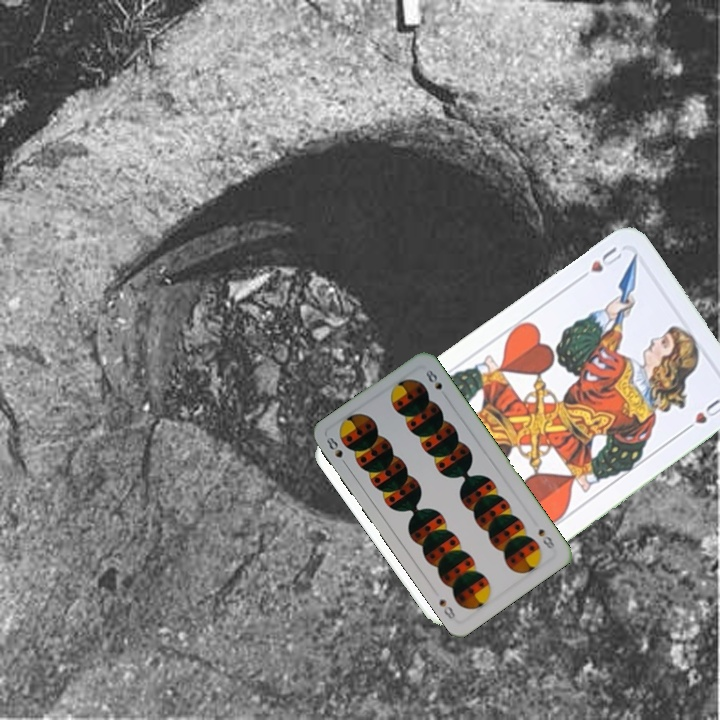HU: (573, 243, 625, 285)
S8: (322, 433, 350, 469), (534, 524, 557, 551)
